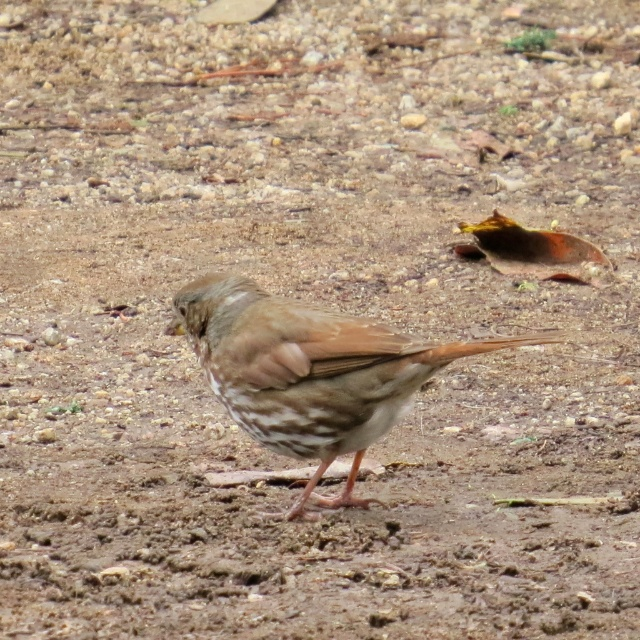Sparrow: (162, 273, 563, 521)
